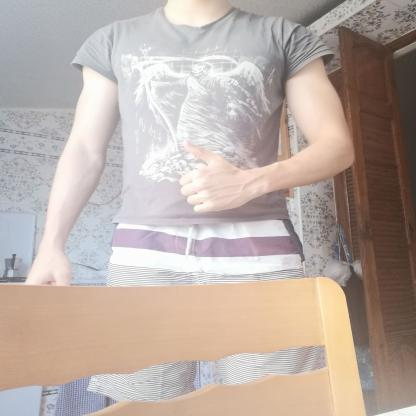ALIF: (160, 128, 262, 220)
